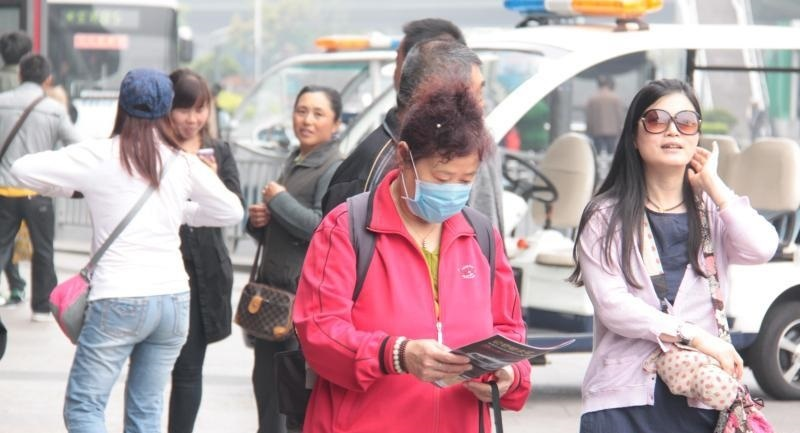Mask: (412, 160, 477, 225)
